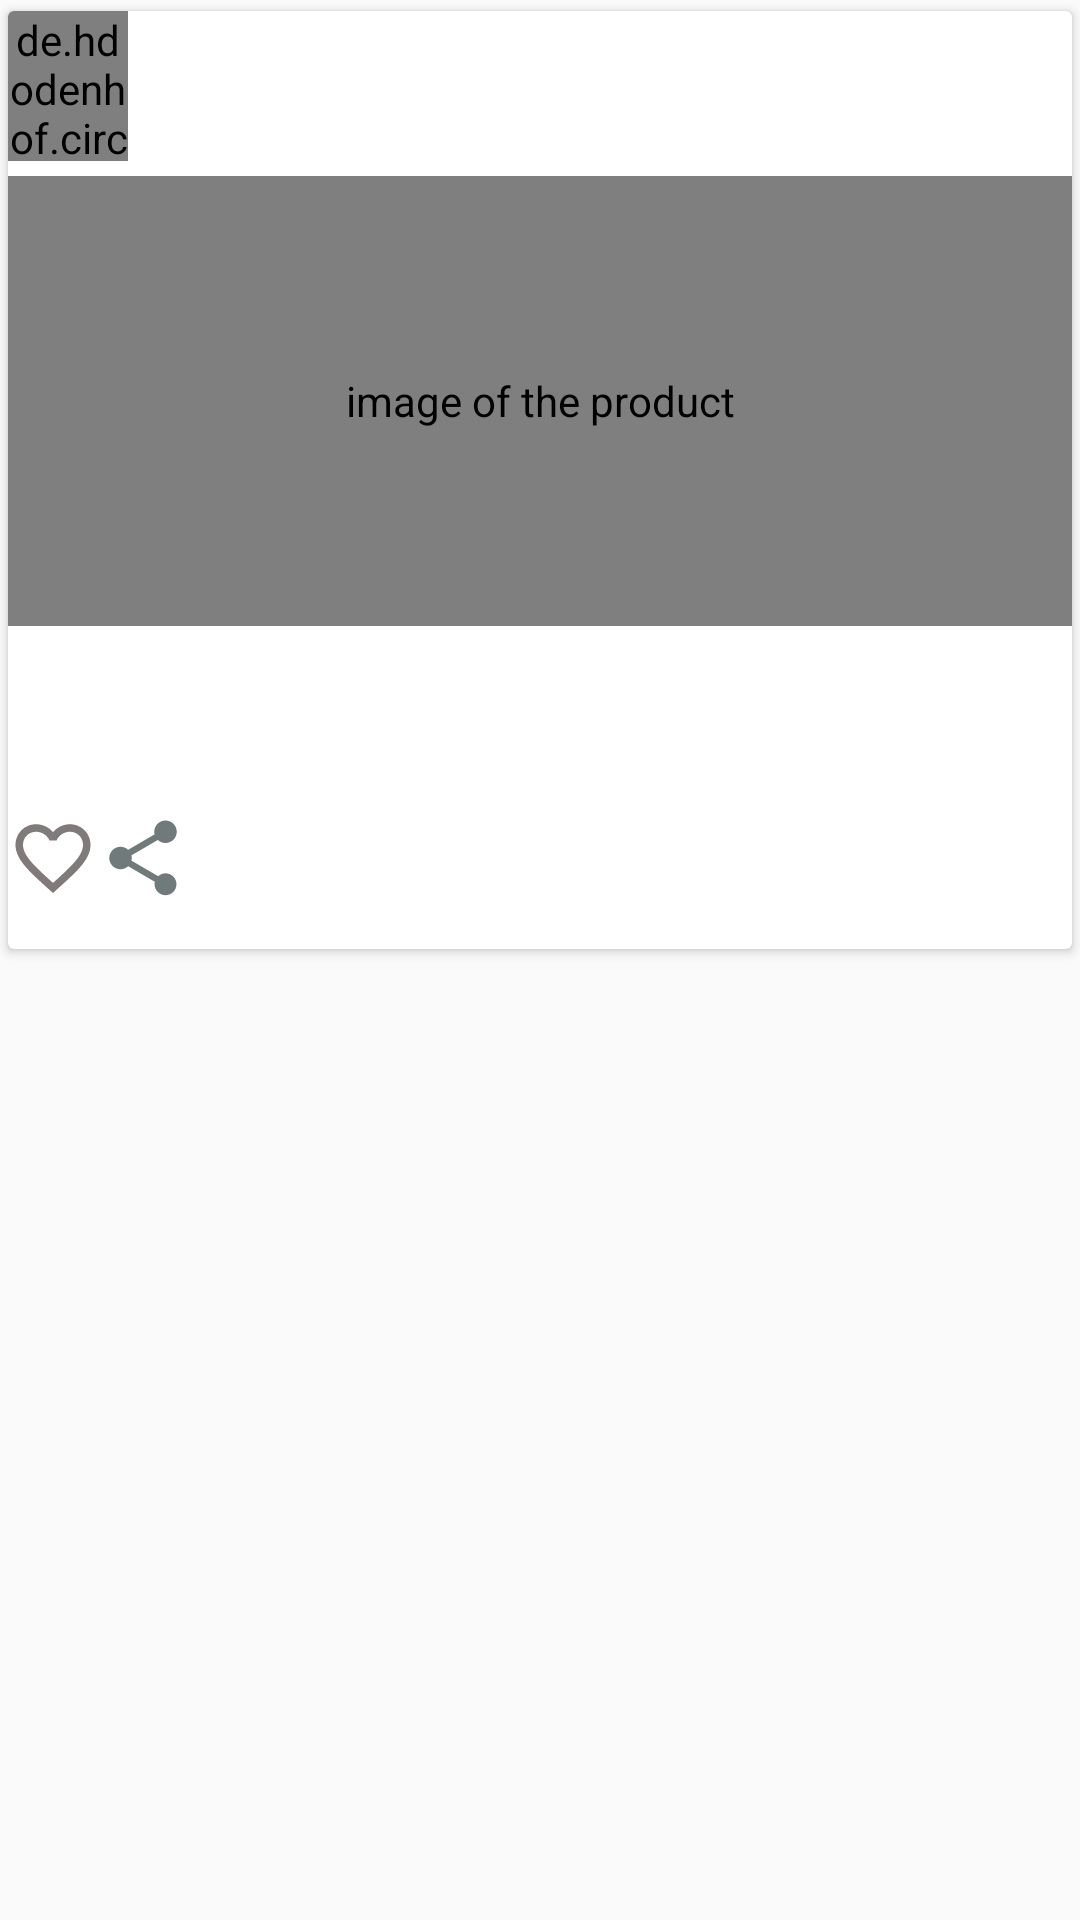

Icon bounding boxes for this 1080px x 1920px phone screenshot, format bbox(x1, y1, x2, y2):
favorite border: bbox(15, 824, 91, 893)
share: bbox(109, 820, 177, 896)
